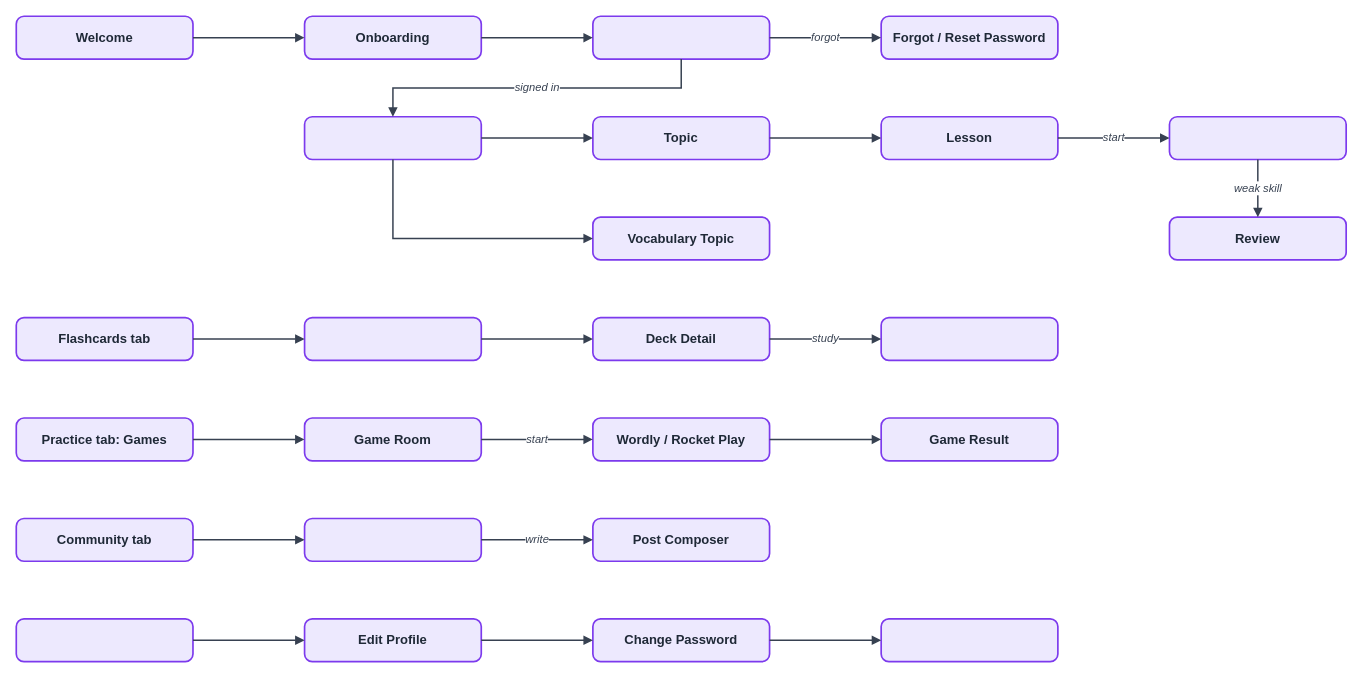
Image size: 1363x679. Some labels were removed from this diagram. The shapes that lost their labels are listed below. From the top down, each one's centre as x and y in pixels, then its label:
point 681,37: Sign In / Register
point 392,137: Home tab
point 1257,137: Lesson Session
point 392,338: Notebook
point 969,338: Flashcard Study
point 392,539: Post Detail
point 104,640: Account / Profile tab
point 969,640: Notifications
